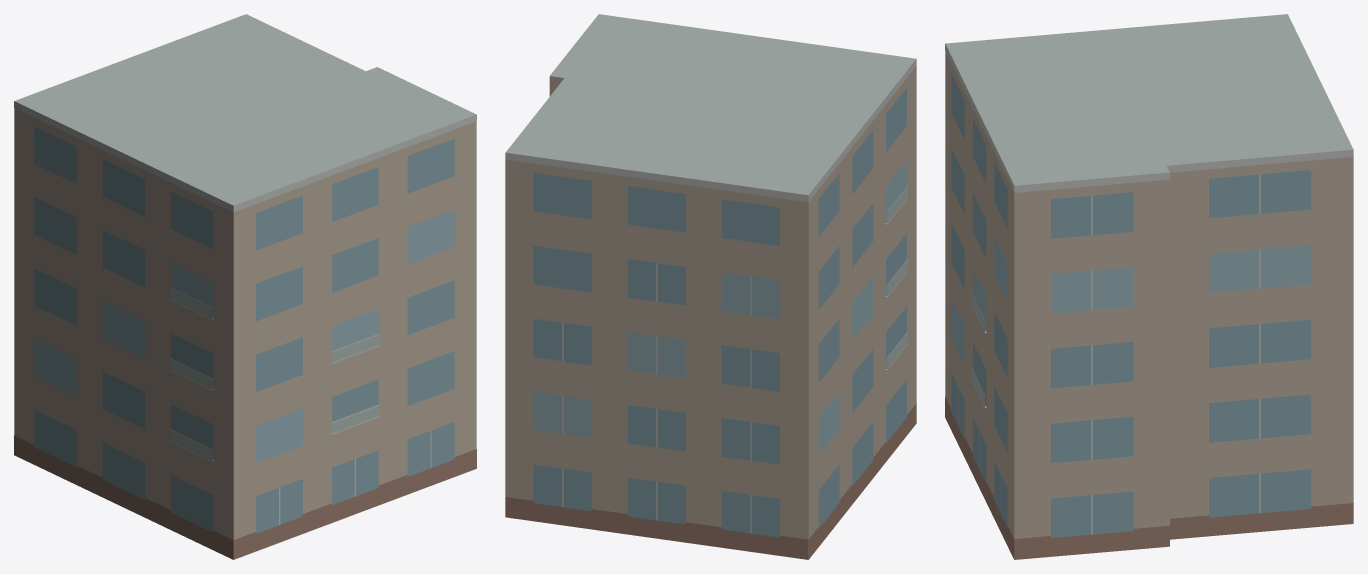
Rendered from survey-upis-33006481.glb.
3 renders of one model, left to right at view 1: azimuth 30°, elevation 25°; view 2: azimuth 150°, elevation 25°; view 3: azimuth 270°, elevation 25°, orthographic. The views are drawn at different scales.
Parts seen in each view (by area): view 1: survey-upis-33006481.tmp; view 2: survey-upis-33006481.tmp; view 3: survey-upis-33006481.tmp.
Part boxes in pixels (x1=…): survey-upis-33006481.tmp: x1=14, y1=14, x2=476, y2=559; survey-upis-33006481.tmp: x1=505, y1=14, x2=916, y2=559; survey-upis-33006481.tmp: x1=945, y1=14, x2=1353, y2=559.
Bounding box in the file's own units: 12.56 × 12.75 × 12.63.
